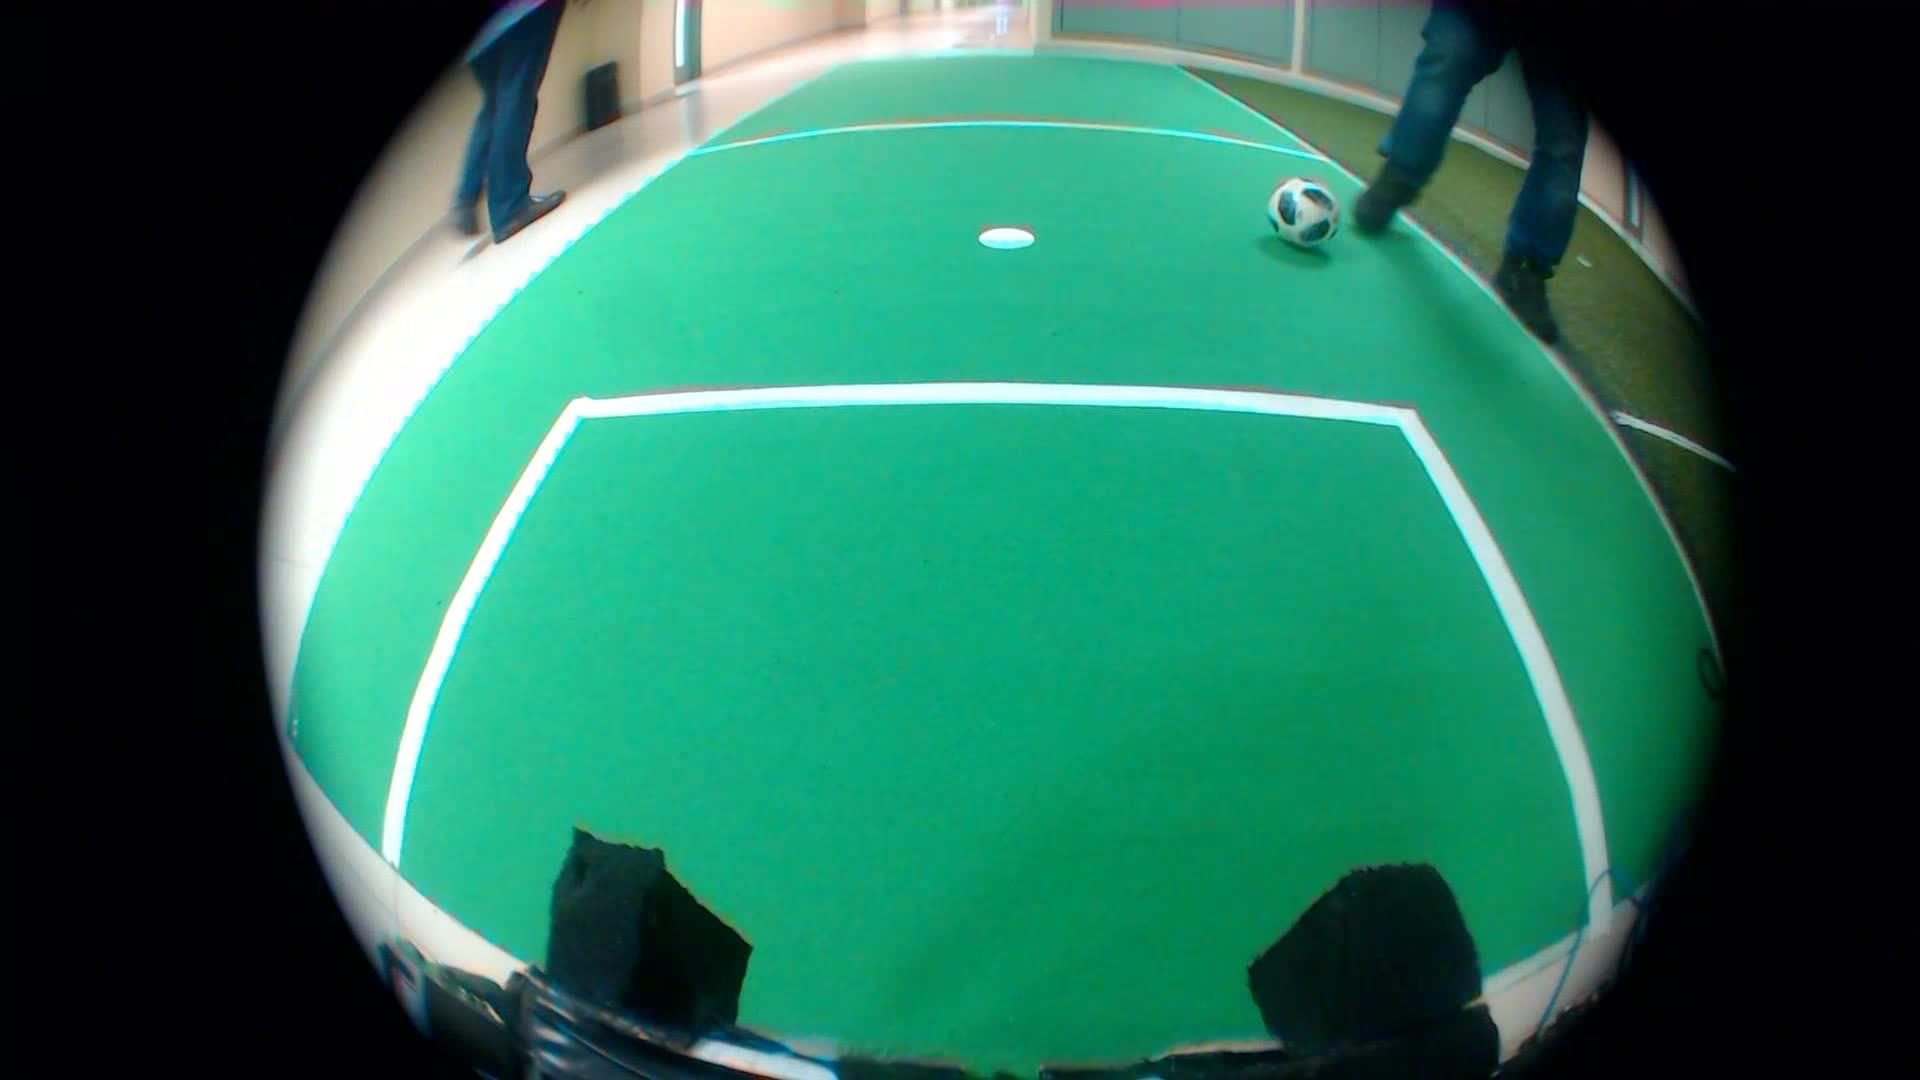ball: (1253, 158, 1345, 258)
